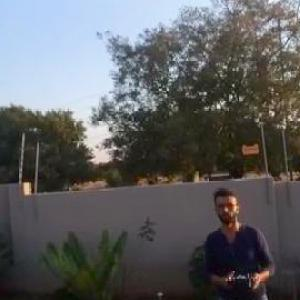follow: (199, 183, 280, 299)
